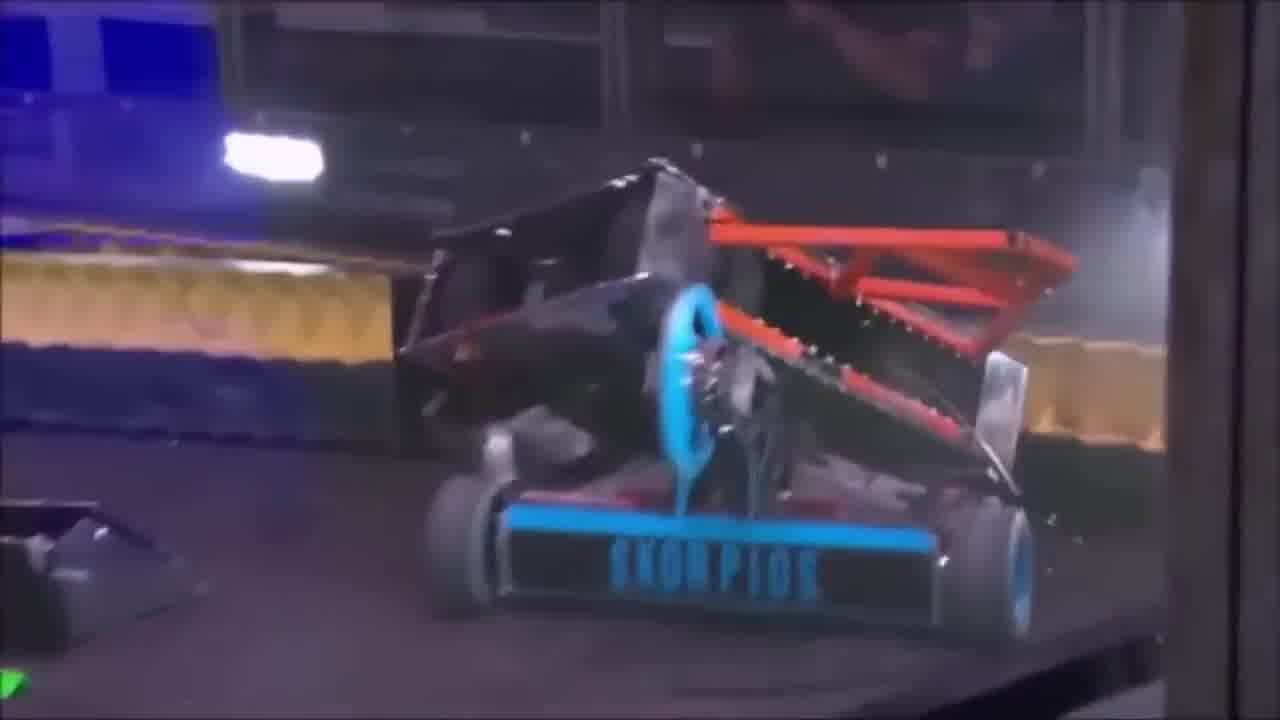combatbot: (399, 148, 1077, 492), (421, 284, 1038, 654), (0, 494, 191, 647)
